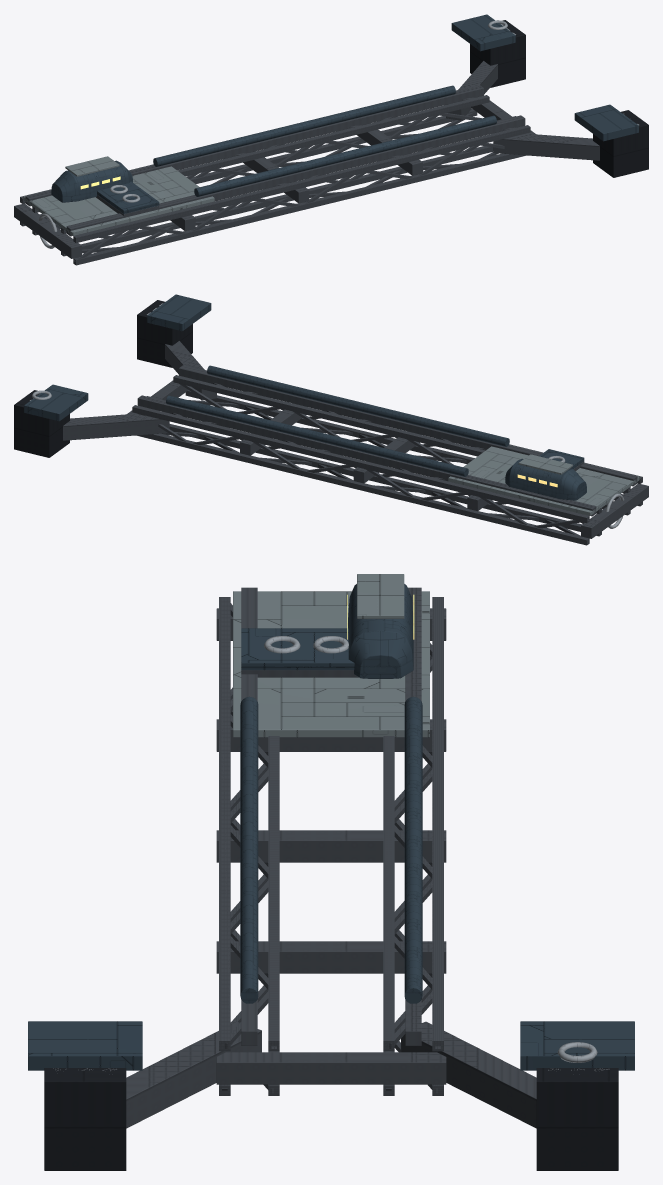
Rendered from large_capital_berth_outrigger_lod1.glb.
3 views of the same model, one above another, from view 1: azimuth 30°, elevation 25°; view 2: azimuth 150°, elevation 25°; view 3: azimuth 270°, elevation 25° (orthographic). The views are drawn at different scales.
Parts seen in each view (by area): view 1: LOD1_Mechanical, LOD1_Armor, LOD1_Hull, LOD1_MechanicalDark, LOD1_BrushedMetal; view 2: LOD1_Mechanical, LOD1_Armor, LOD1_Hull, LOD1_MechanicalDark, LOD1_BrushedMetal; view 3: LOD1_Mechanical, LOD1_Armor, LOD1_Hull, LOD1_MechanicalDark, LOD1_BrushedMetal.
Boxes of the visible parts, bbox=[...] form: LOD1_Mechanical: bbox=[14, 61, 599, 265]; LOD1_Armor: bbox=[51, 14, 638, 213]; LOD1_Hull: bbox=[23, 156, 214, 235]; LOD1_MechanicalDark: bbox=[470, 20, 648, 177]; LOD1_BrushedMetal: bbox=[38, 20, 638, 248]; LOD1_Mechanical: bbox=[63, 341, 648, 545]; LOD1_Armor: bbox=[24, 294, 586, 500]; LOD1_Hull: bbox=[448, 444, 639, 515]; LOD1_MechanicalDark: bbox=[14, 300, 192, 457]; LOD1_BrushedMetal: bbox=[30, 303, 624, 528]; LOD1_Mechanical: bbox=[126, 587, 536, 1128]; LOD1_Armor: bbox=[28, 584, 634, 1070]; LOD1_Hull: bbox=[233, 574, 429, 737]; LOD1_MechanicalDark: bbox=[44, 1068, 618, 1170]; LOD1_BrushedMetal: bbox=[53, 636, 609, 1070].
Size of the model in its own units: 75.25 by 7.96 by 37.
Materials: 6 (5 with a texture image).
